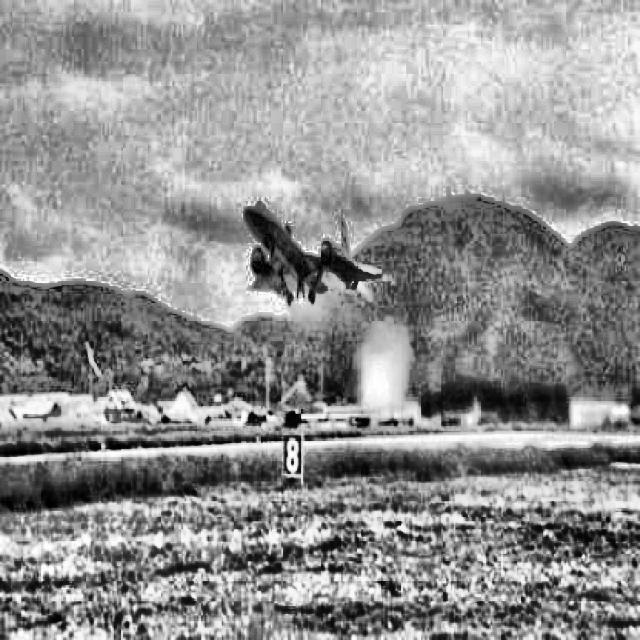SR71: (242, 194, 384, 308)
